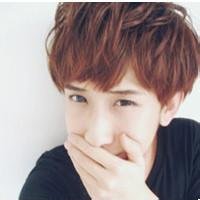face: (58, 45, 159, 187)
